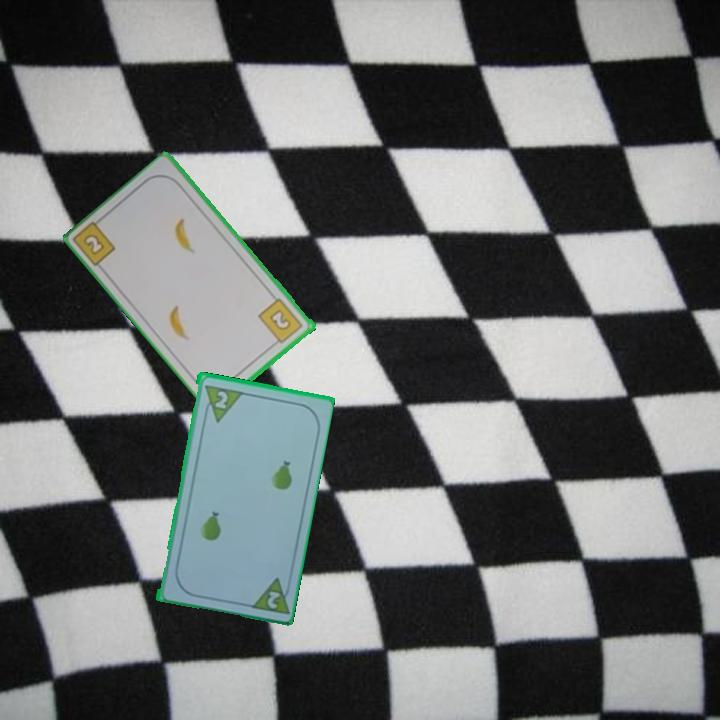2b: (255, 295, 306, 349), (72, 214, 119, 270)
2p: (245, 573, 294, 617), (210, 387, 230, 411)
